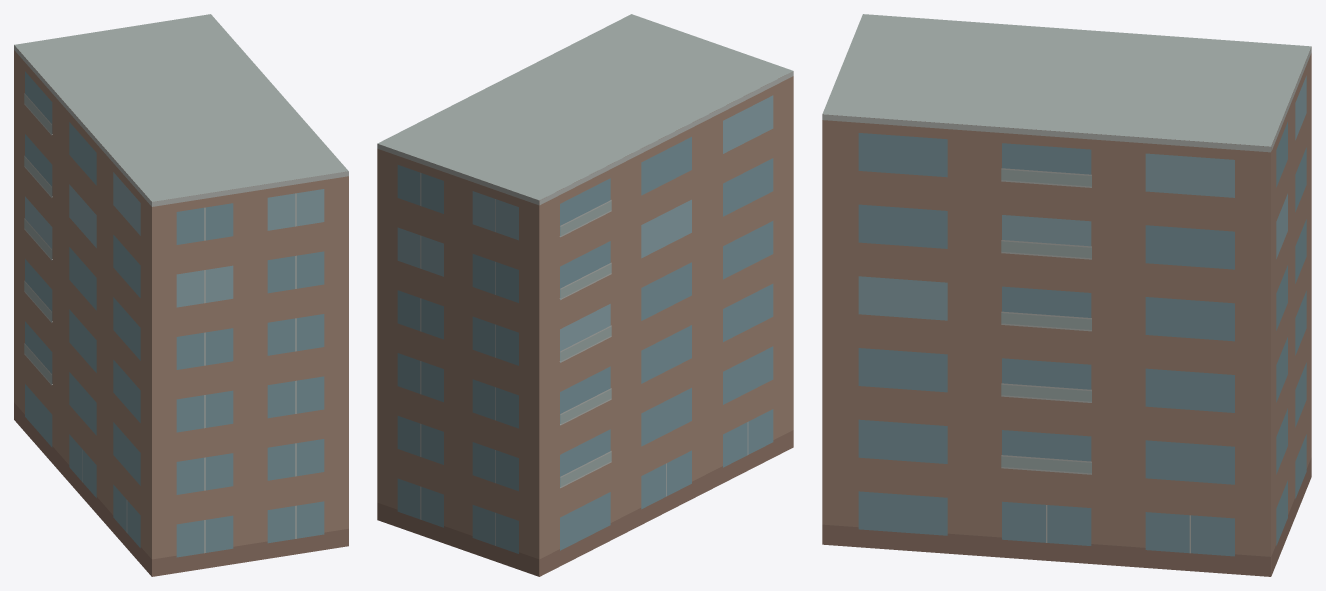
File: survey-upis-32722421.glb
3 renders of one model, left to right at view 1: azimuth 30°, elevation 25°; view 2: azimuth 150°, elevation 25°; view 3: azimuth 270°, elevation 25°, orthographic. The views are drawn at different scales.
Visible parts, largest first — view 1: survey-upis-32722421.tmp; view 2: survey-upis-32722421.tmp; view 3: survey-upis-32722421.tmp.
Boxes of the visible parts, box(x1,y1,x2,y2) form: survey-upis-32722421.tmp: box(14, 14, 348, 576); survey-upis-32722421.tmp: box(377, 14, 793, 576); survey-upis-32722421.tmp: box(822, 14, 1311, 576).
Size of the model in its own units: 12.11 by 18.3 by 18.88.
